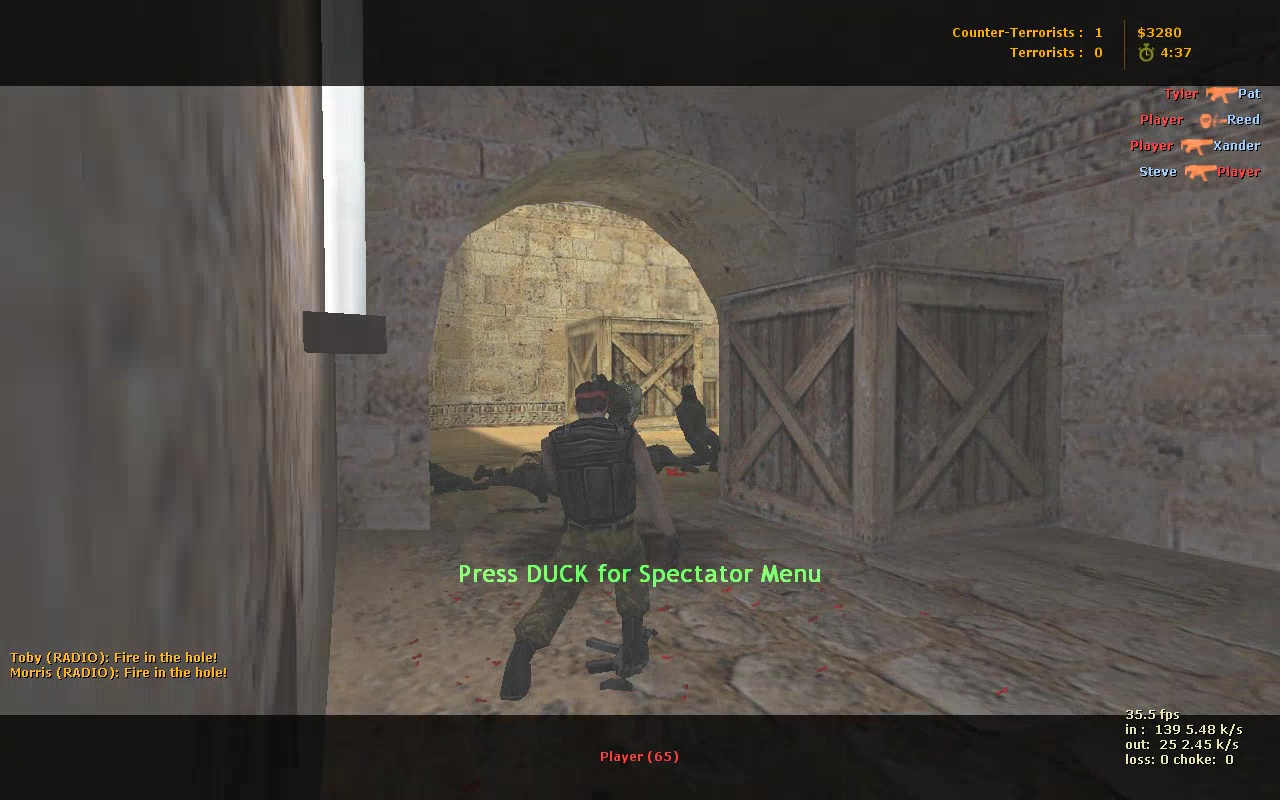ct: (671, 382, 724, 474), (624, 376, 643, 420)
dead: (434, 452, 535, 495)
terr1: (494, 385, 679, 691)
